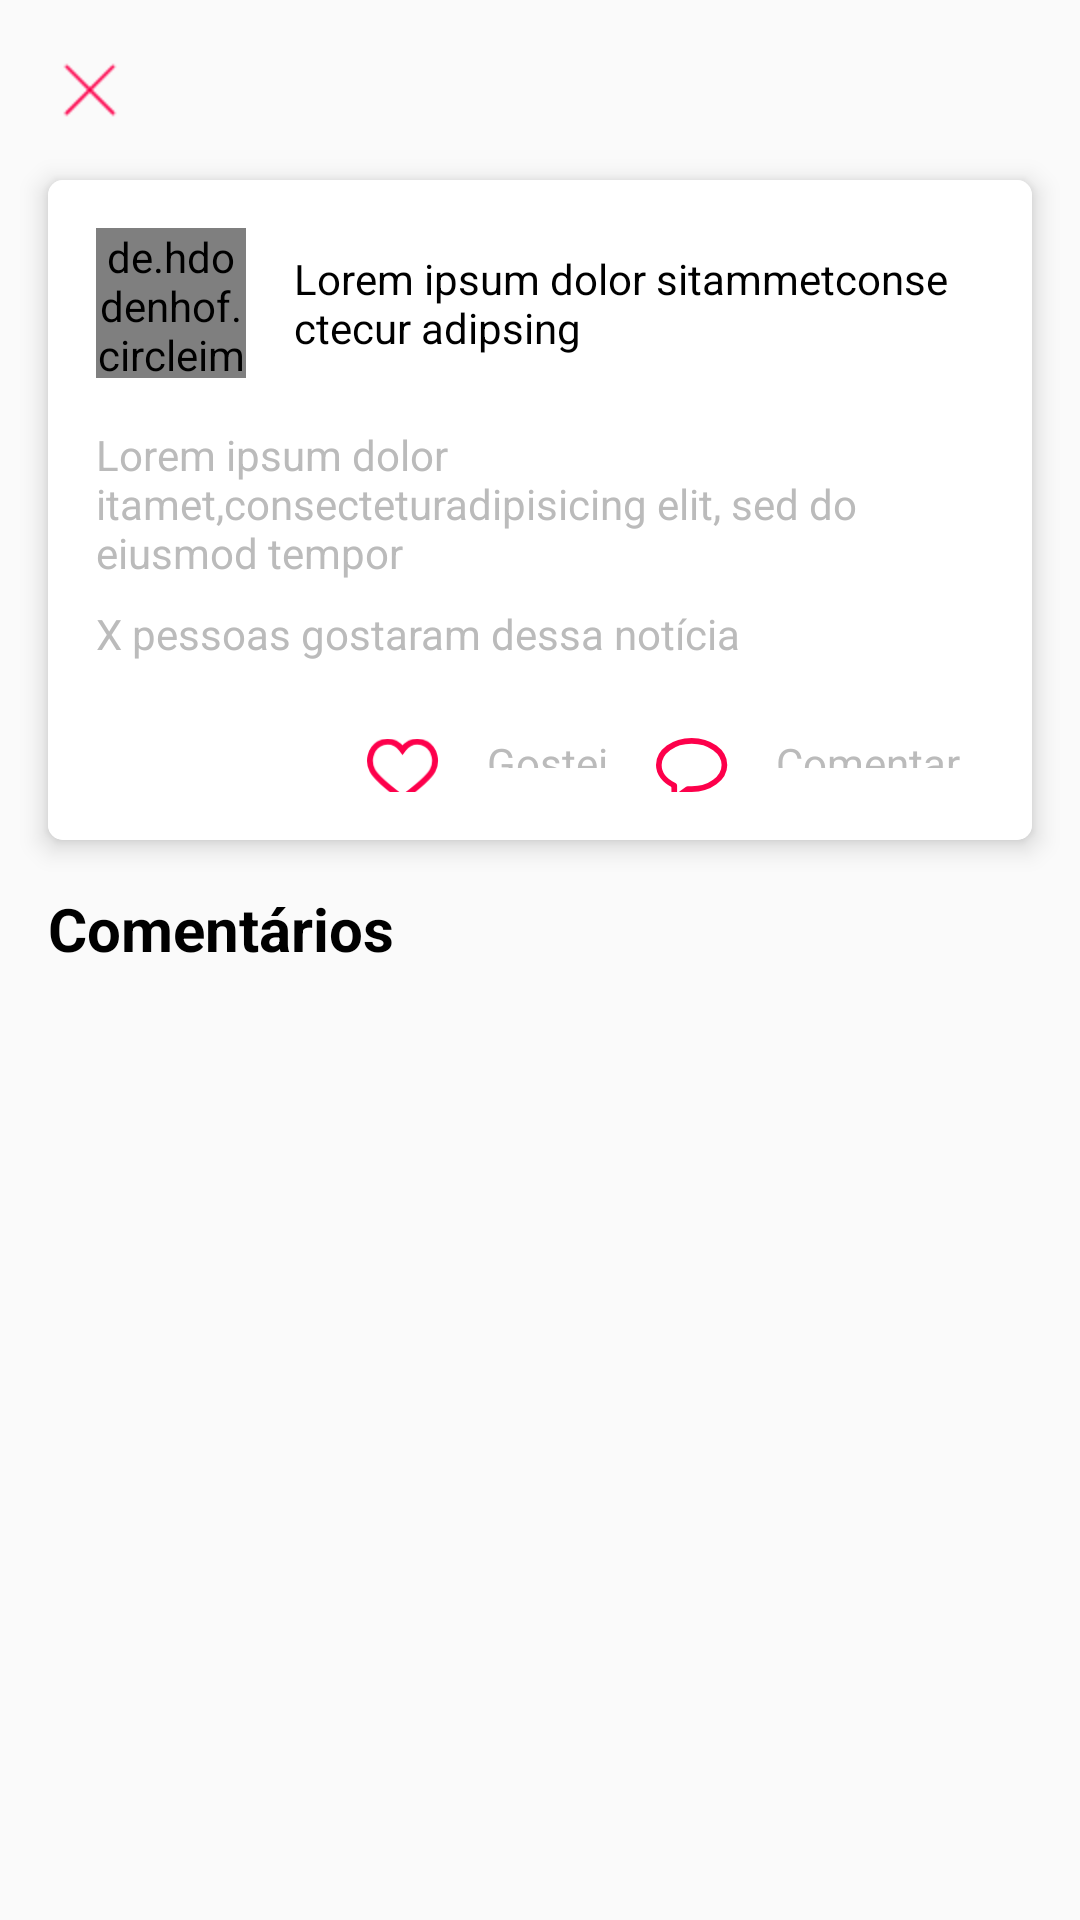

Where to tap for icons on this 1080 x 1920 app screen, as (x,y):
close: (90,90)
